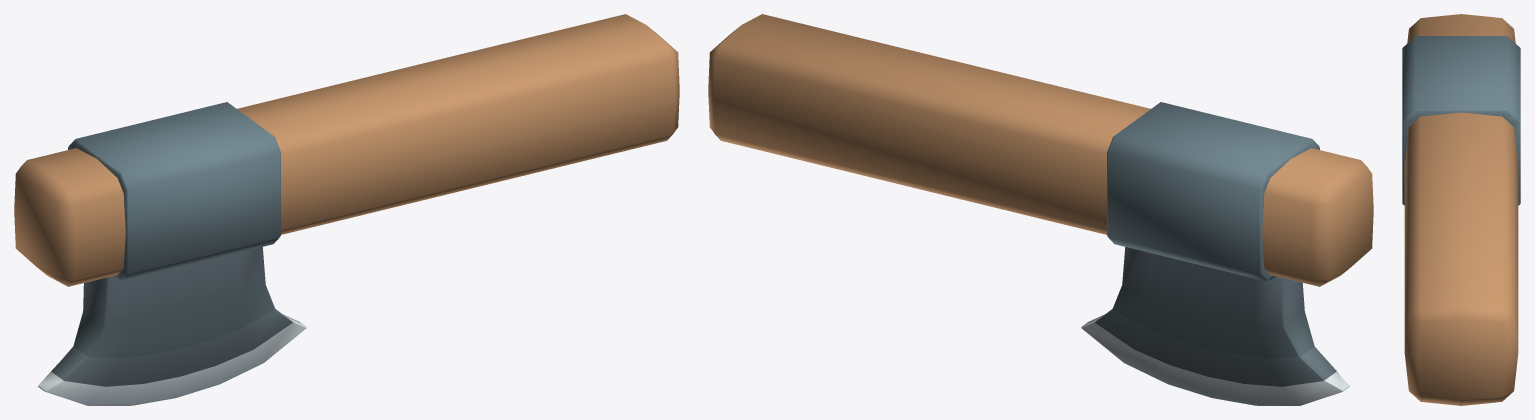
File: Axe_1.fbx
3 renders of one model, left to right at view 1: azimuth 30°, elevation 25°; view 2: azimuth 150°, elevation 25°; view 3: azimuth 270°, elevation 25°, orthographic.
Visible parts, largest first — view 1: Axe_1; view 2: Axe_1; view 3: Axe_1.
Boxes of the visible parts, x1=… form: Axe_1: x1=14, y1=14, x2=679, y2=405; Axe_1: x1=708, y1=14, x2=1373, y2=405; Axe_1: x1=1402, y1=14, x2=1520, y2=405.
Bounding box in the file's own units: 74.03 × 29.34 × 12.34.
